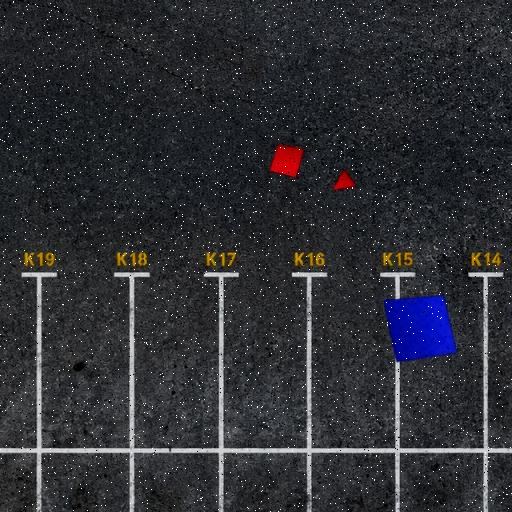BLUE_SQUARE: (382, 294, 458, 362)
RED_SQUARE: (269, 144, 305, 178)
